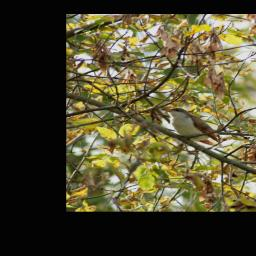Cuckoo: (159, 104, 229, 145)
